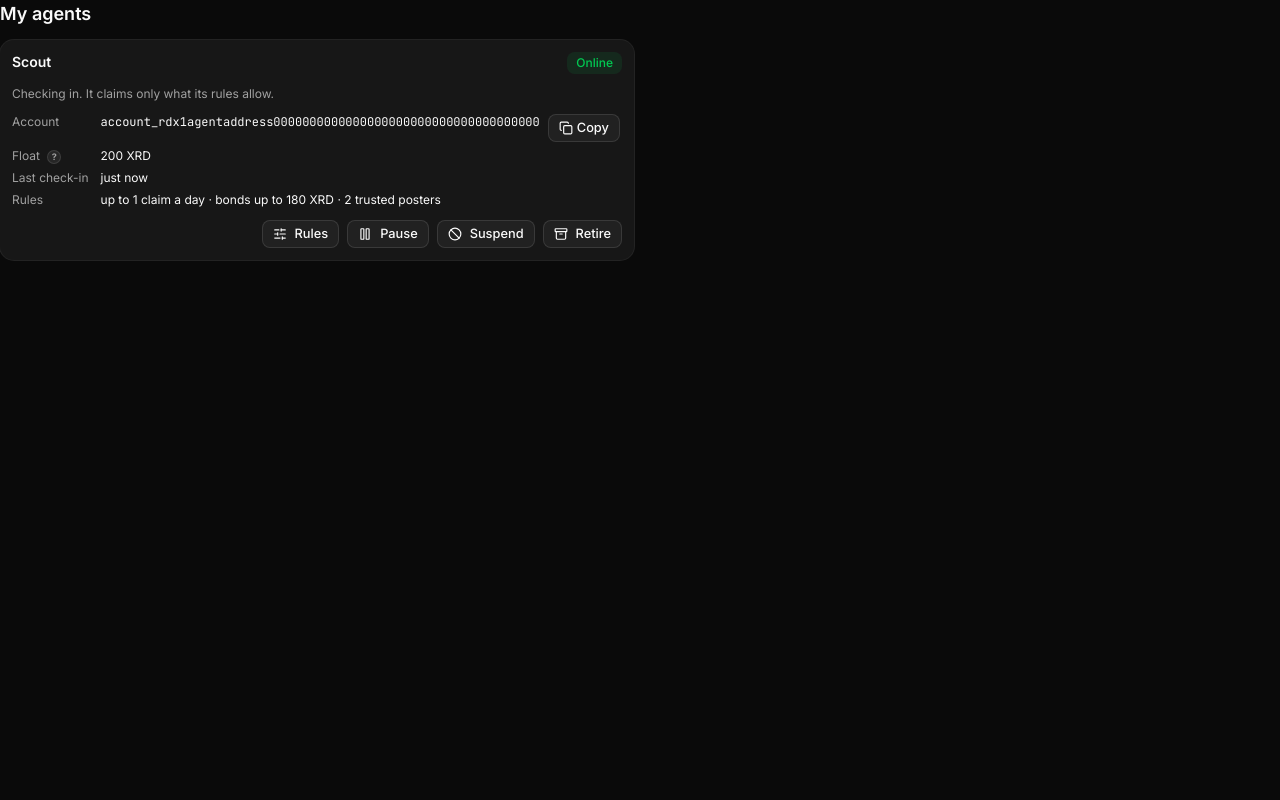
an owner action's answer (A2.4) › 🔴 rules changed meanwhile: the refusal's current card is applied at once — 'Start again' never reloads the stale copy
Click the button with test id "agent-rules".
click(300, 234)  # box 262,220 -> 339,248
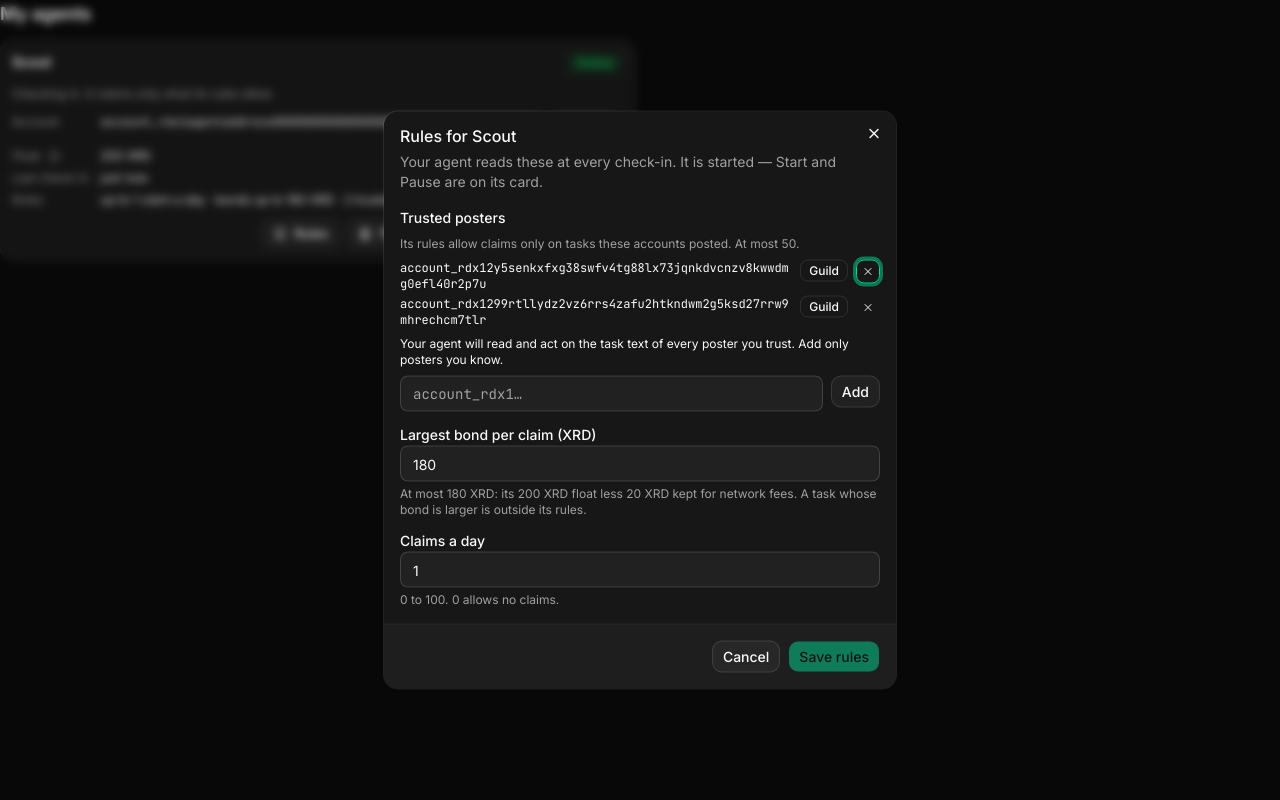
Result: the dialog is shown at 384,112 -> 896,688
Replace the text in the field labelled "Claims a day" with "3" at (640, 570), box 400,552 -> 880,588
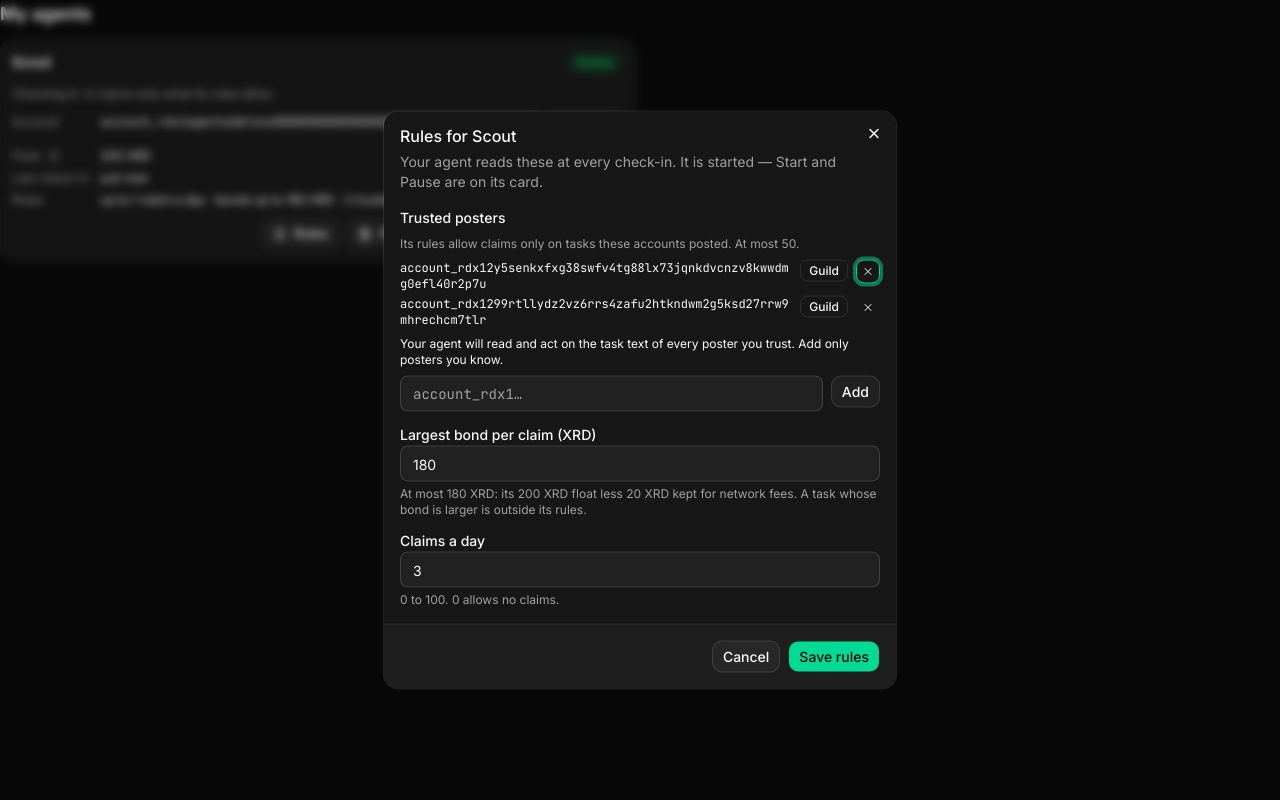
Click the button with test id "rules-save".
click(834, 656)  # box 788,640 -> 880,672
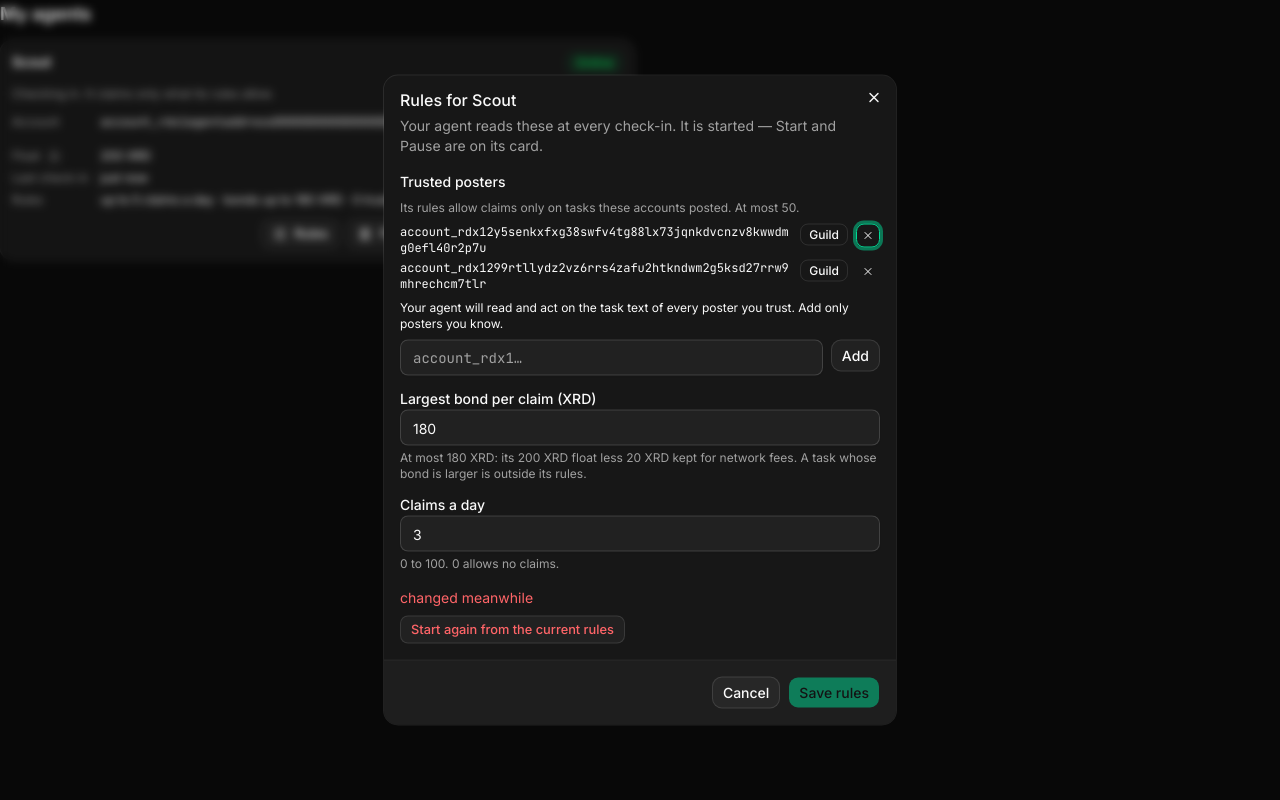
Click the button "Start again from the current rules".
click(512, 630)  # box 400,616 -> 625,644
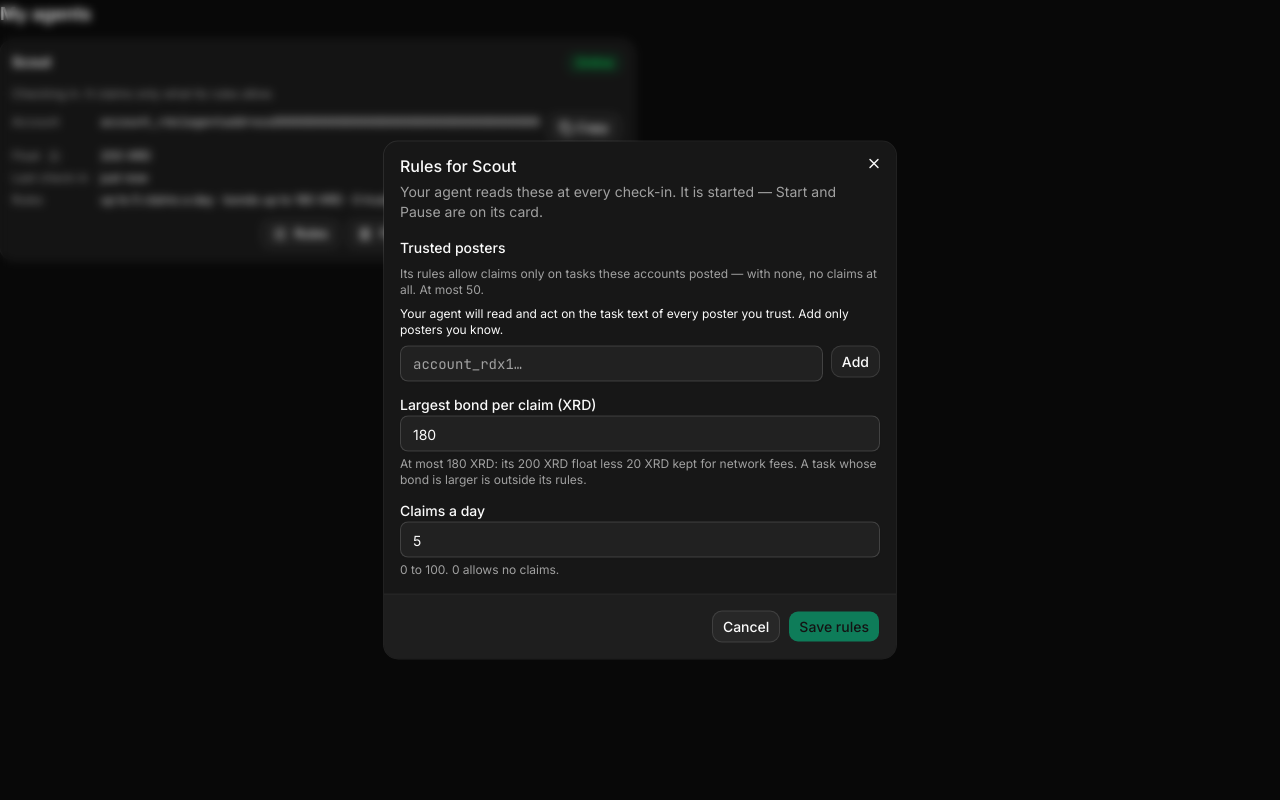
Result: no list items are shown
Result: the field labelled "Claims a day" holds "5" at 400,522 -> 880,558
